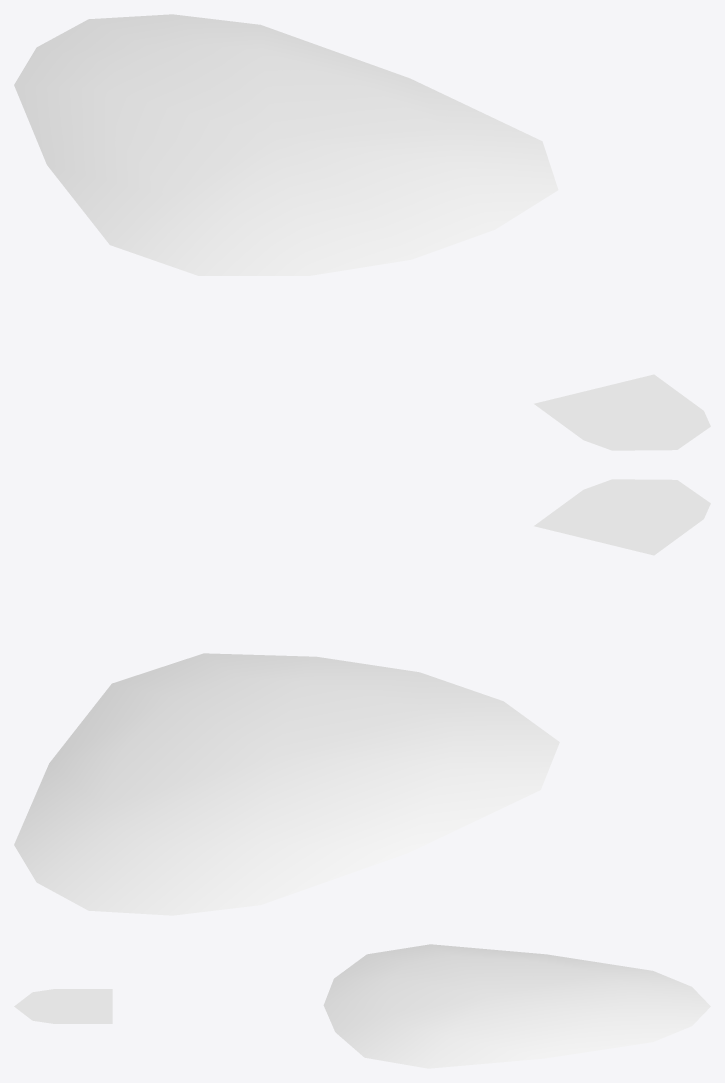
File: heeled footprint.fbx
The picture shows the model from 3 angles, top to bottom: view 1: azimuth 30°, elevation 25°; view 2: azimuth 150°, elevation 25°; view 3: azimuth 270°, elevation 25°; orthographic projection. The views are drawn at different scales.
Visible parts, largest first — view 1: heeled footprint; view 2: heeled footprint; view 3: heeled footprint.
Part boxes in pixels (left/top/right/bottom): heeled footprint: left=14, top=14, right=710, bottom=450; heeled footprint: left=14, top=479, right=710, bottom=915; heeled footprint: left=14, top=944, right=710, bottom=1068.
Bounding box in the file's own units: 0.1529 × 0.0059 × 0.3619.
